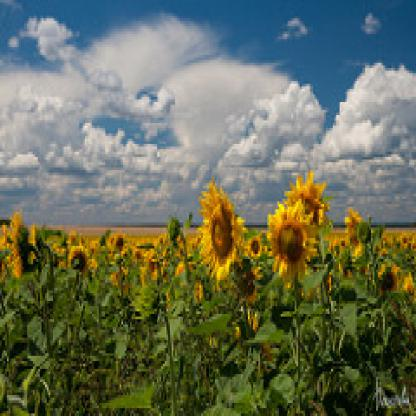SUN FLOWER: (8, 124, 415, 375)
